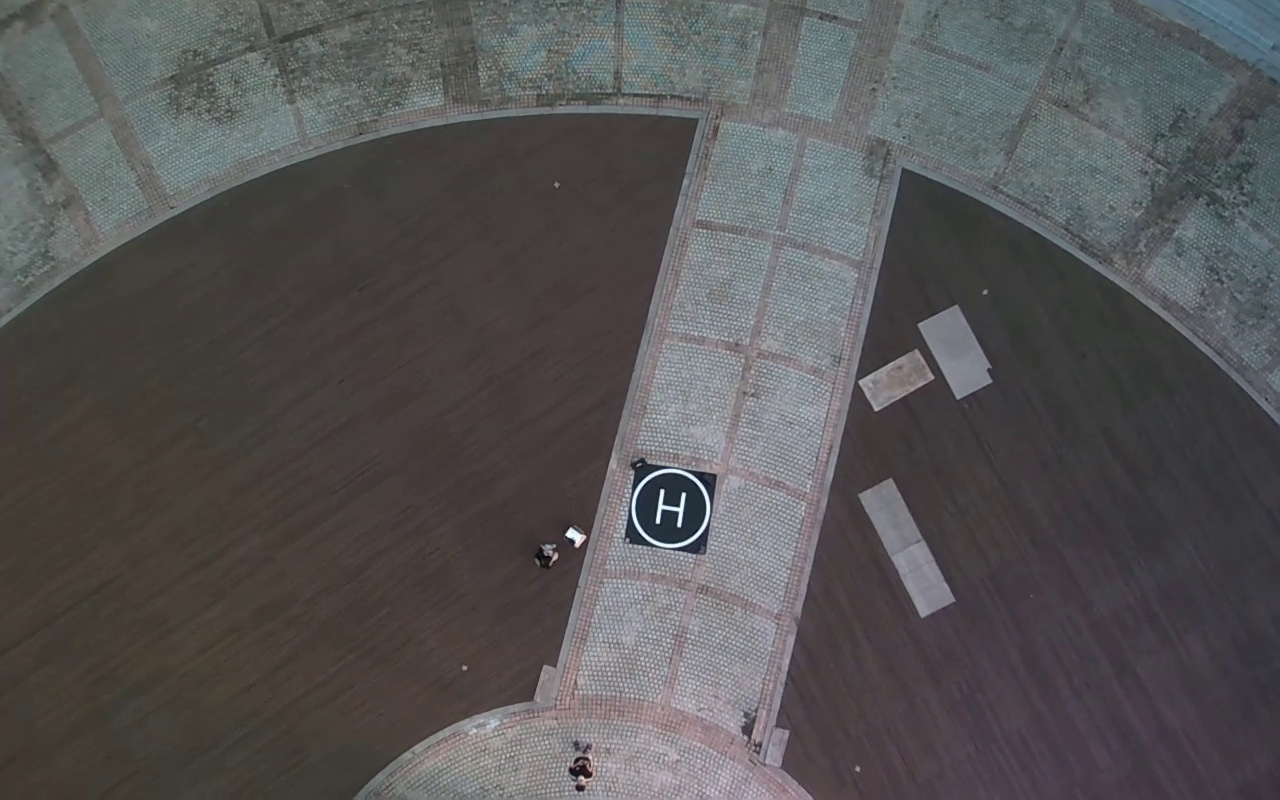H: (654, 488, 687, 529)
heliport: (630, 466, 714, 550)
